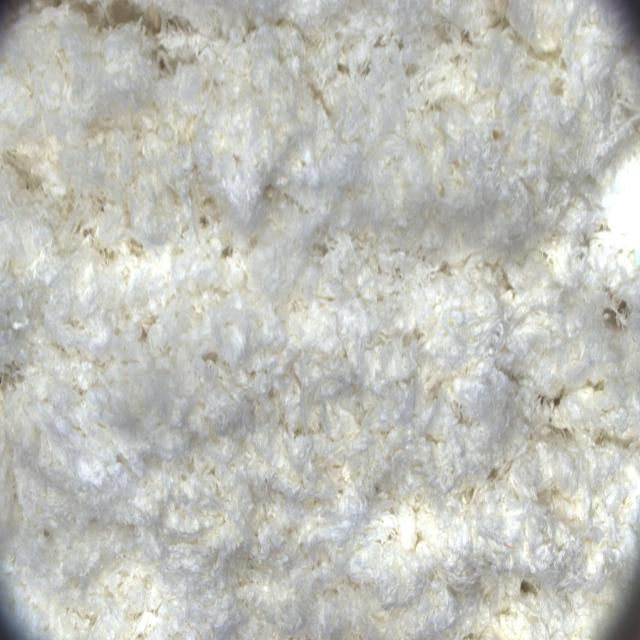dust: (502, 543, 518, 551)
